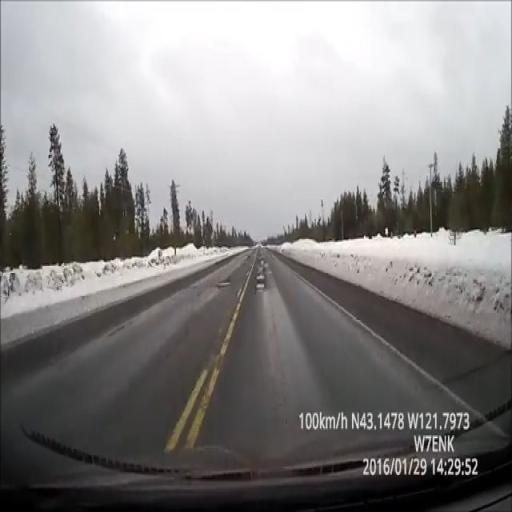Potholes: (256, 259, 265, 290)
